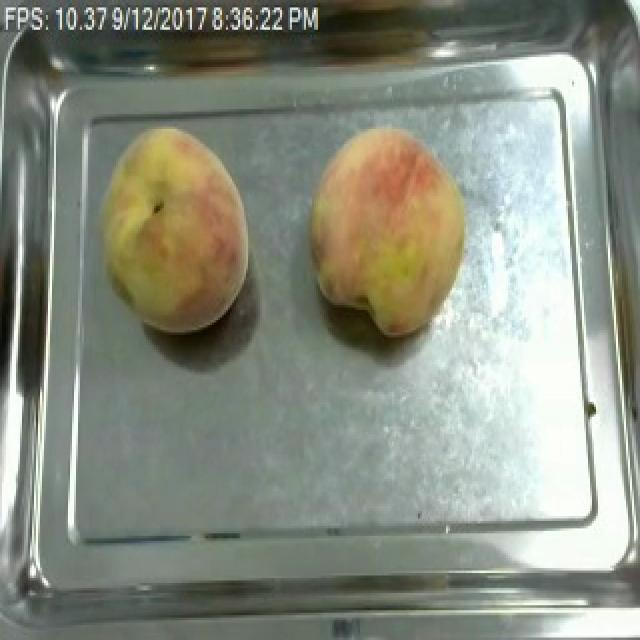Fruit: (298, 114, 480, 345), (82, 114, 258, 342)
